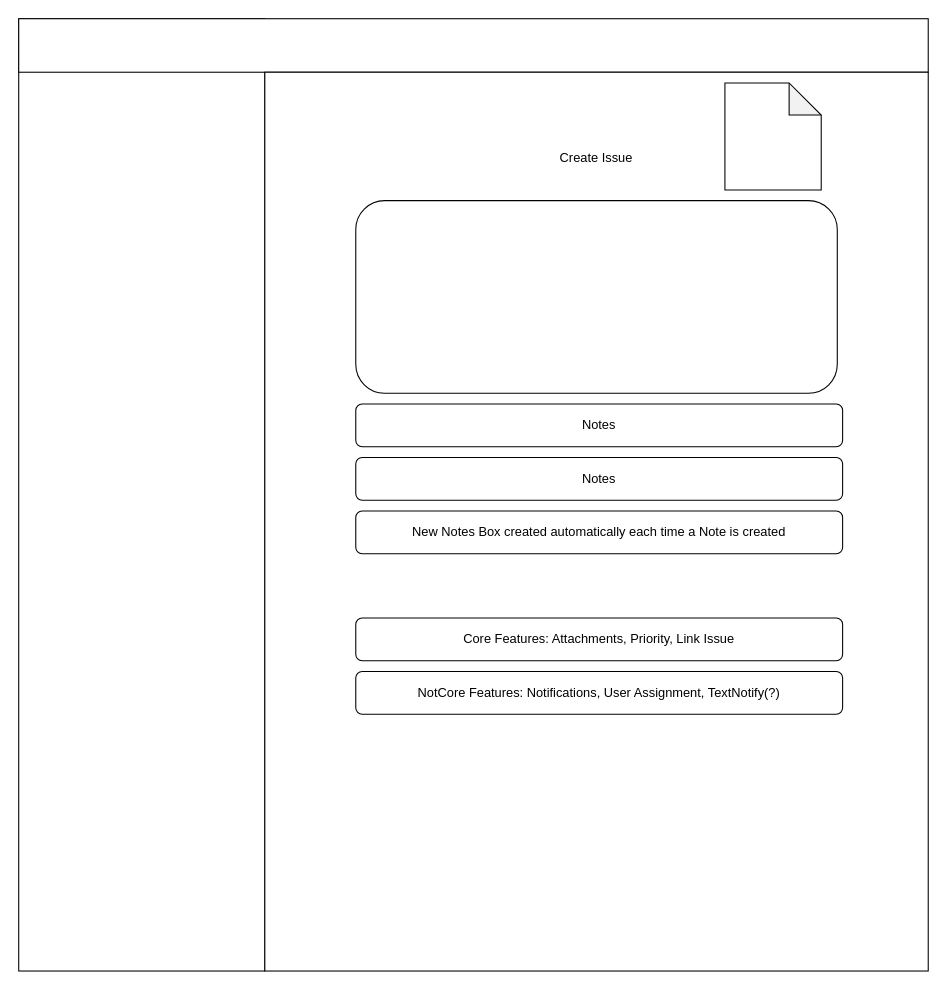
This 947x990 diagram has some shape labels left out. The shapes that lost their labels are listed below. From the top down, each one's centre as x and y in pixels, then its label:
At point 772,136: "Type: - Task - Bug - NotCore".
At point 596,296: "TextBox".
